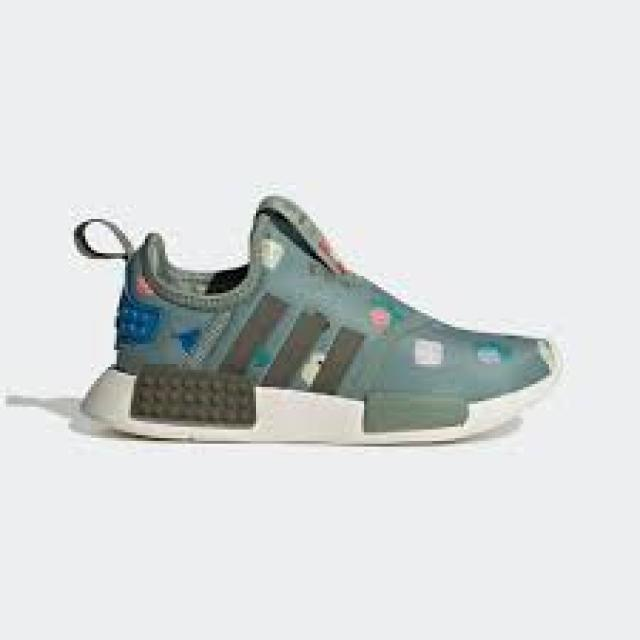shoe: (72, 192, 568, 447)
